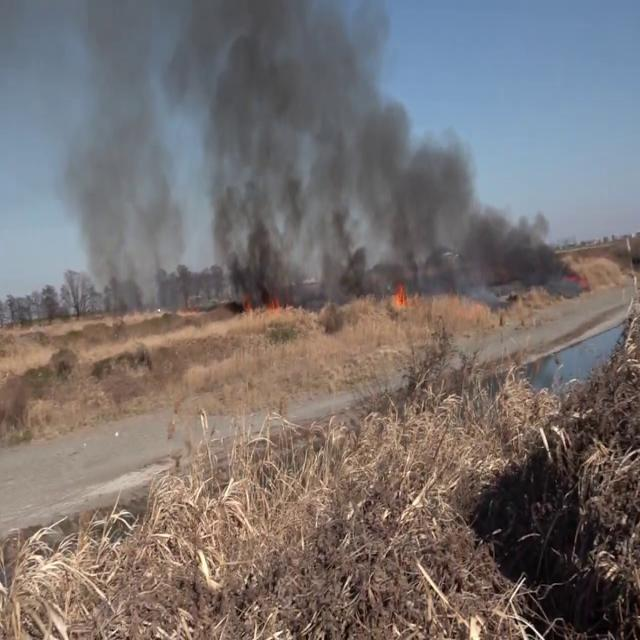Fire: (388, 270, 412, 312)
Smoke: (44, 1, 382, 304), (358, 102, 575, 296)
